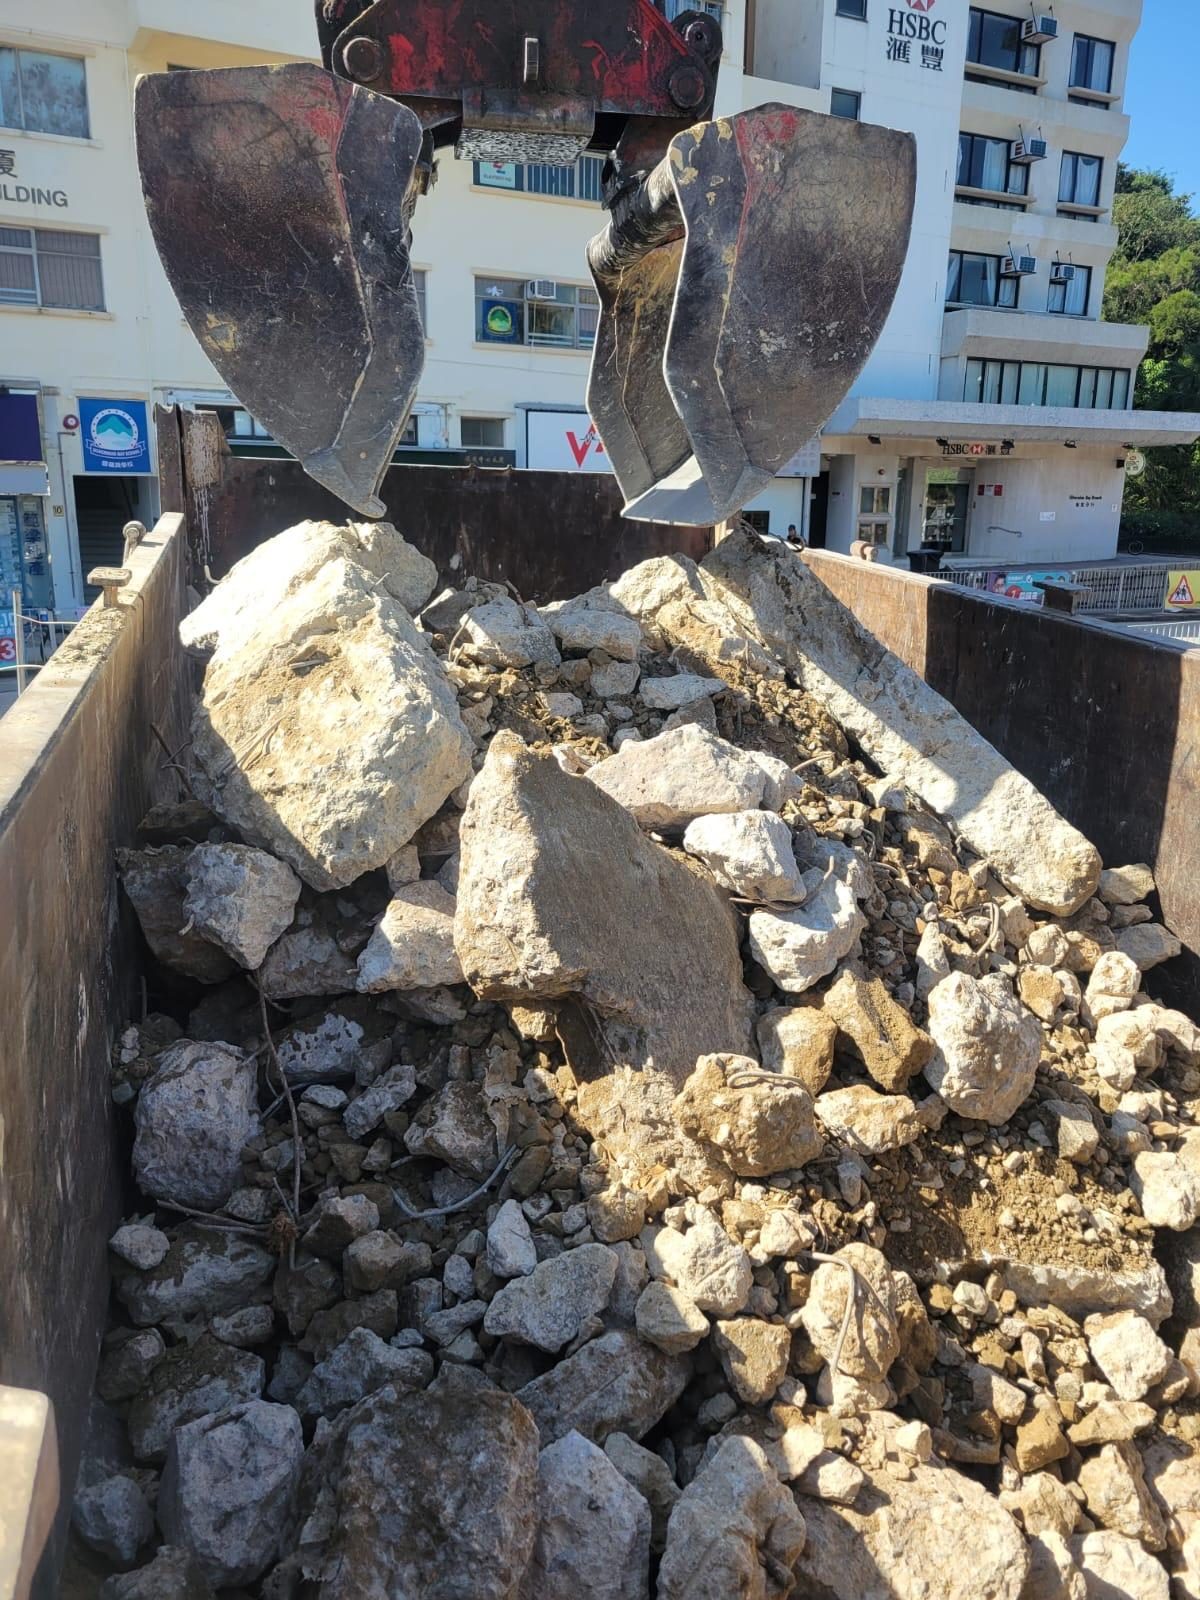dirt: (57, 515, 1198, 1597)
stone: (176, 516, 476, 892), (451, 725, 759, 1091), (920, 968, 1042, 1124)
